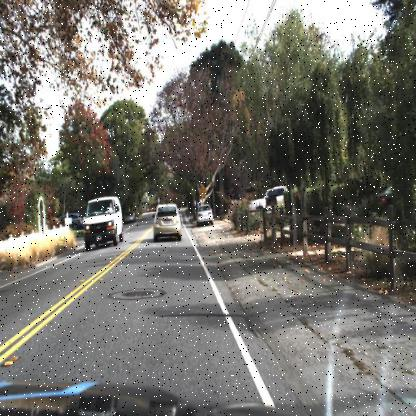car: (241, 182, 303, 230), (81, 196, 124, 250), (152, 204, 180, 244), (192, 203, 214, 229)
